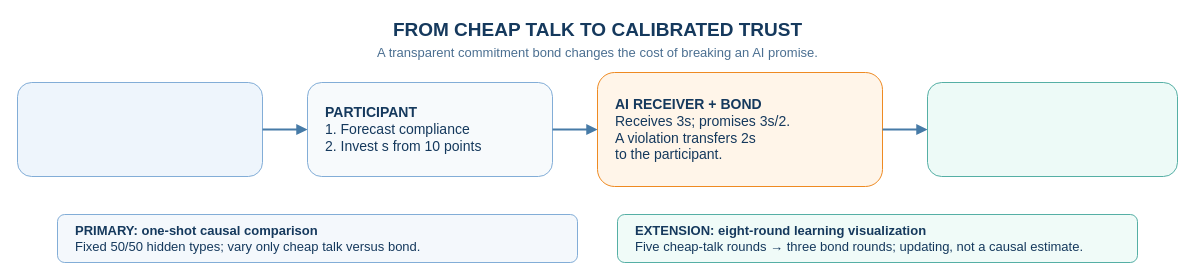
Image size: 1195x280. Some labels were removed from this diagram. Here are the shapes that lost their labels. From the top down, the box of each, then its label:
(16, 82, 262, 176): PROBLEM Cheap talk: a promise does not change the payoff from breaking it.
(926, 82, 1178, 176): OUTCOMES Compliance · investment Payoffs · calibration
